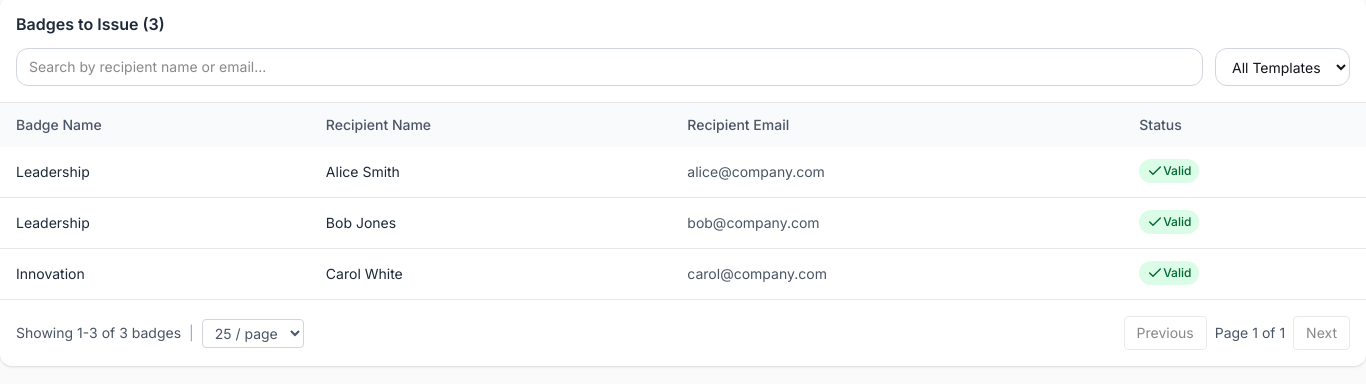
Test: BulkPreviewTable › should filter by recipient email via search
Type "bob@" into the field named "Search recipients" at [610, 67], box left=16, top=48, right=1203, bottom=86
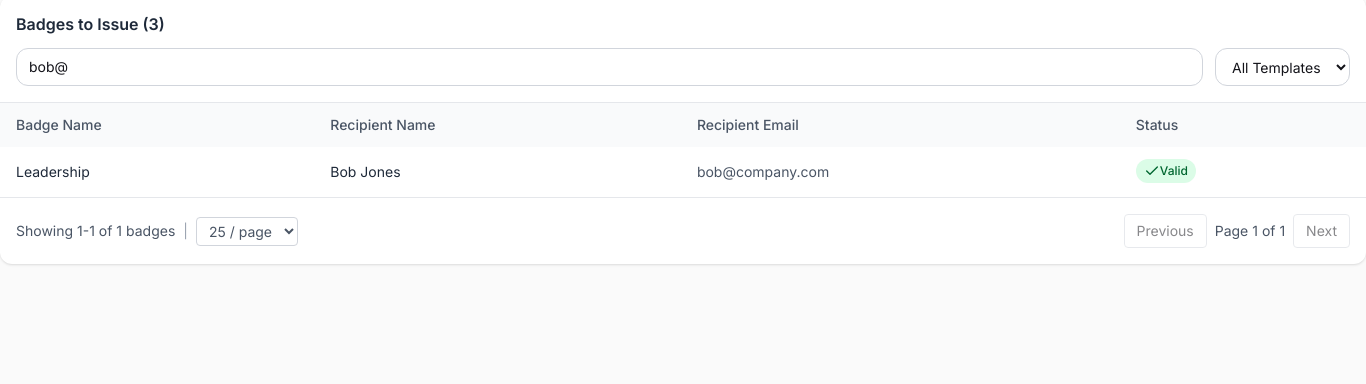
Expected: the text "Bob Jones" is shown, left=314, top=147, right=681, bottom=197
Expected: the text "Alice Smith" is gone
